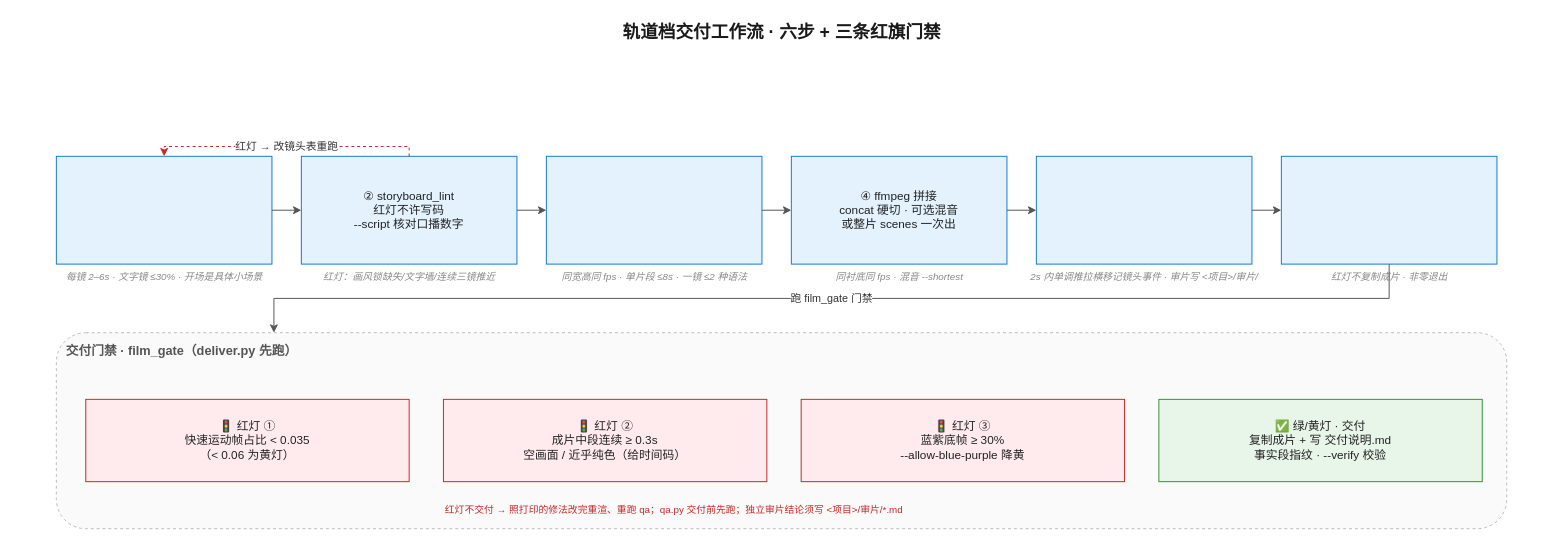
Image size: 1562x546. Some labels were removed from this diagram. Each missing label, with the centre of its shape:
"① 写镜头表 锁画风 · 色板 · 角色 每行：物/动作/镜头/屏上字" belongs at pixel 163 209.
"③ 逐镜渲染 --spec / --solo 每镜 镜NN.mp4" belongs at pixel 653 209.
"⑤ qa 验收 确定性/动感/流畅/框景 + 独立审片 agent" belongs at pixel 1143 209.
"⑥ deliver.py 先过 film_gate 门禁 绿/黄灯才复制成片" belongs at pixel 1388 209.
